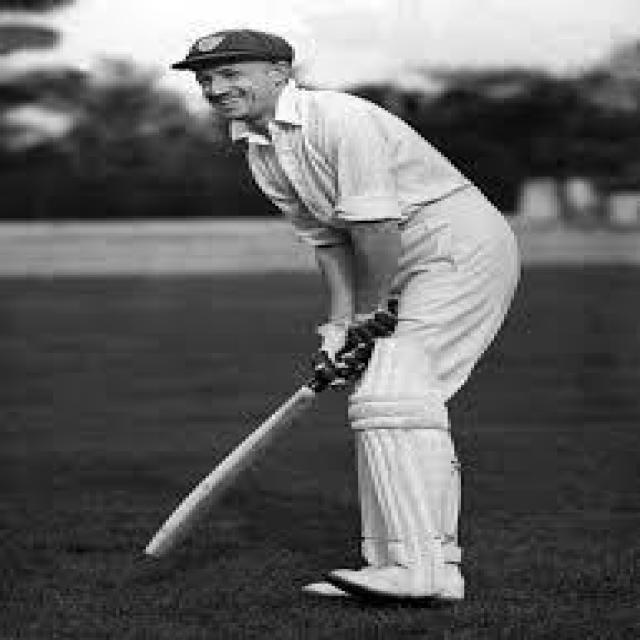bat: (145, 380, 317, 556)
toe: (129, 533, 189, 560)
